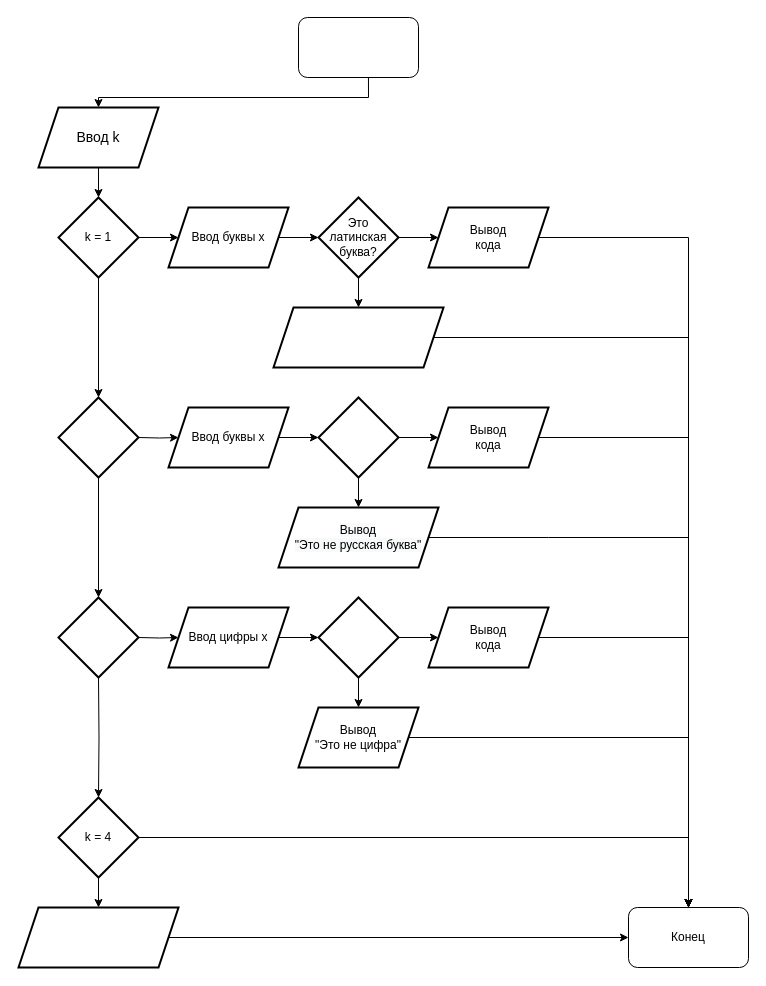
Image size: 766x986. Some labels were removed from this diagram. The centre of each missing label's shape, as x and y in pixels:
k = 2: [98,437]
k = 3: [98,637]
Вывод "Такой программы нет": [98,937]
Вывод "Это не латинская буква": [358,337]
Начало: [358,47]
Это русская Буква?: [358,437]
Это цифра?: [358,637]
